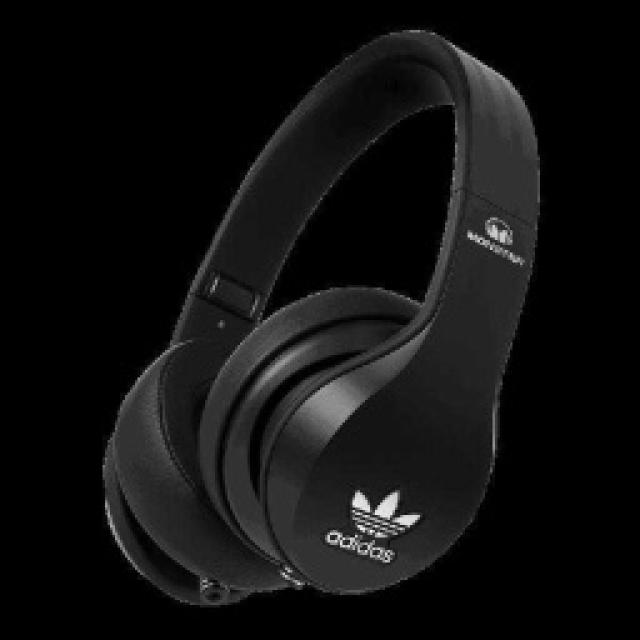headphones: (98, 25, 542, 607)
